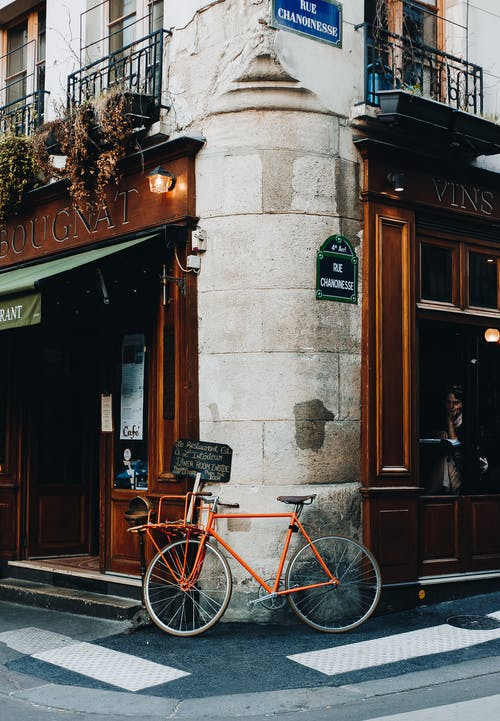bicycle: (133, 488, 387, 645)
